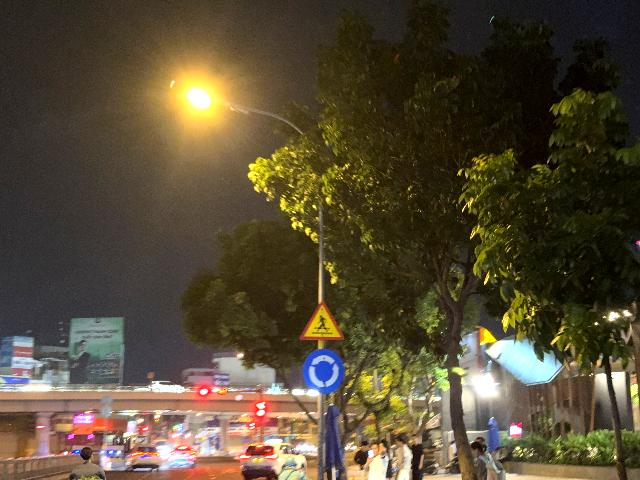duong-nguoi-di-bo-cat-ngang: (299, 300, 347, 341)
noi-giao-nhau-chay-theo-vong-xuyen: (302, 348, 346, 393)
